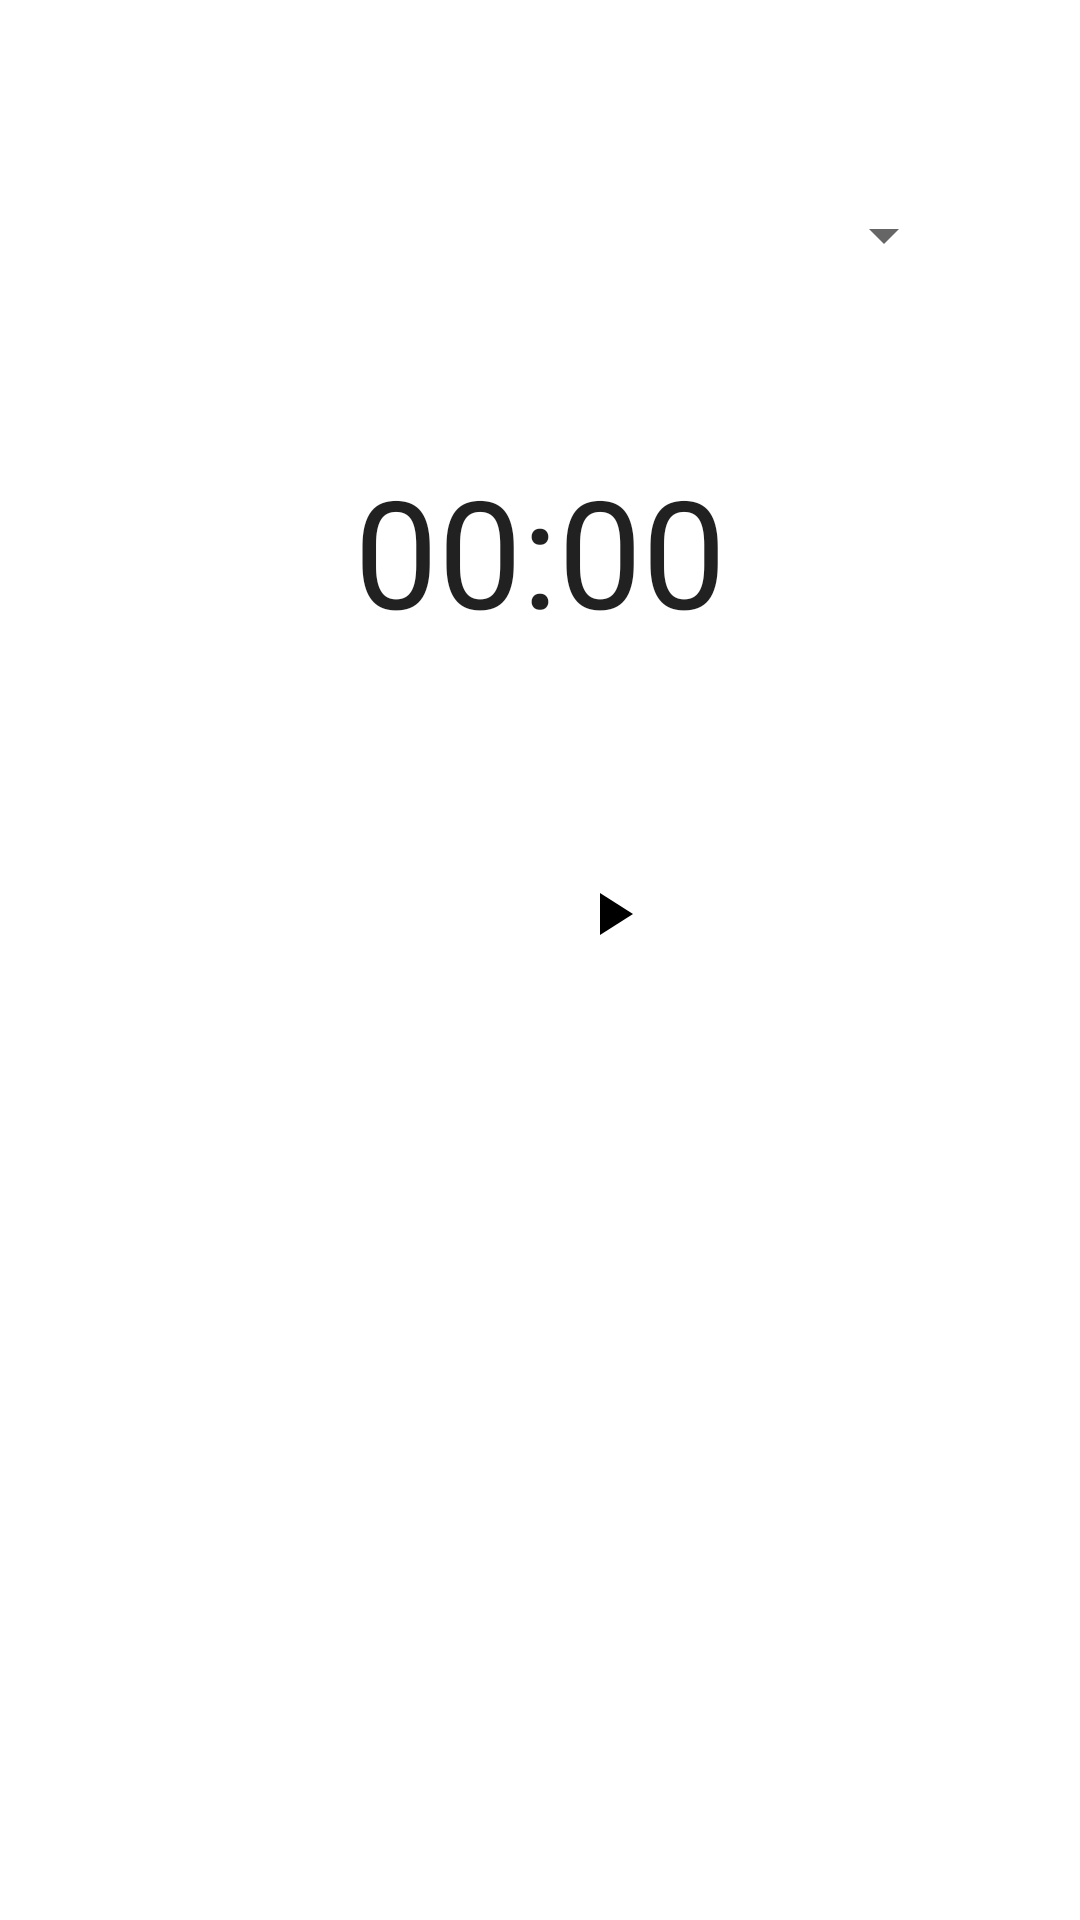

Where to tap for icons on this 1080w x 1920h app screen, as point (x, y):
Play/Pause: point (616, 914)
